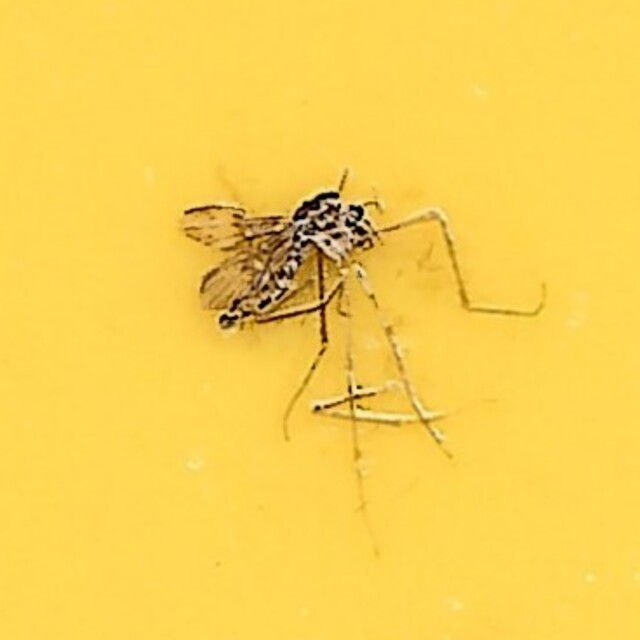Nematocera: (174, 177, 466, 463)
